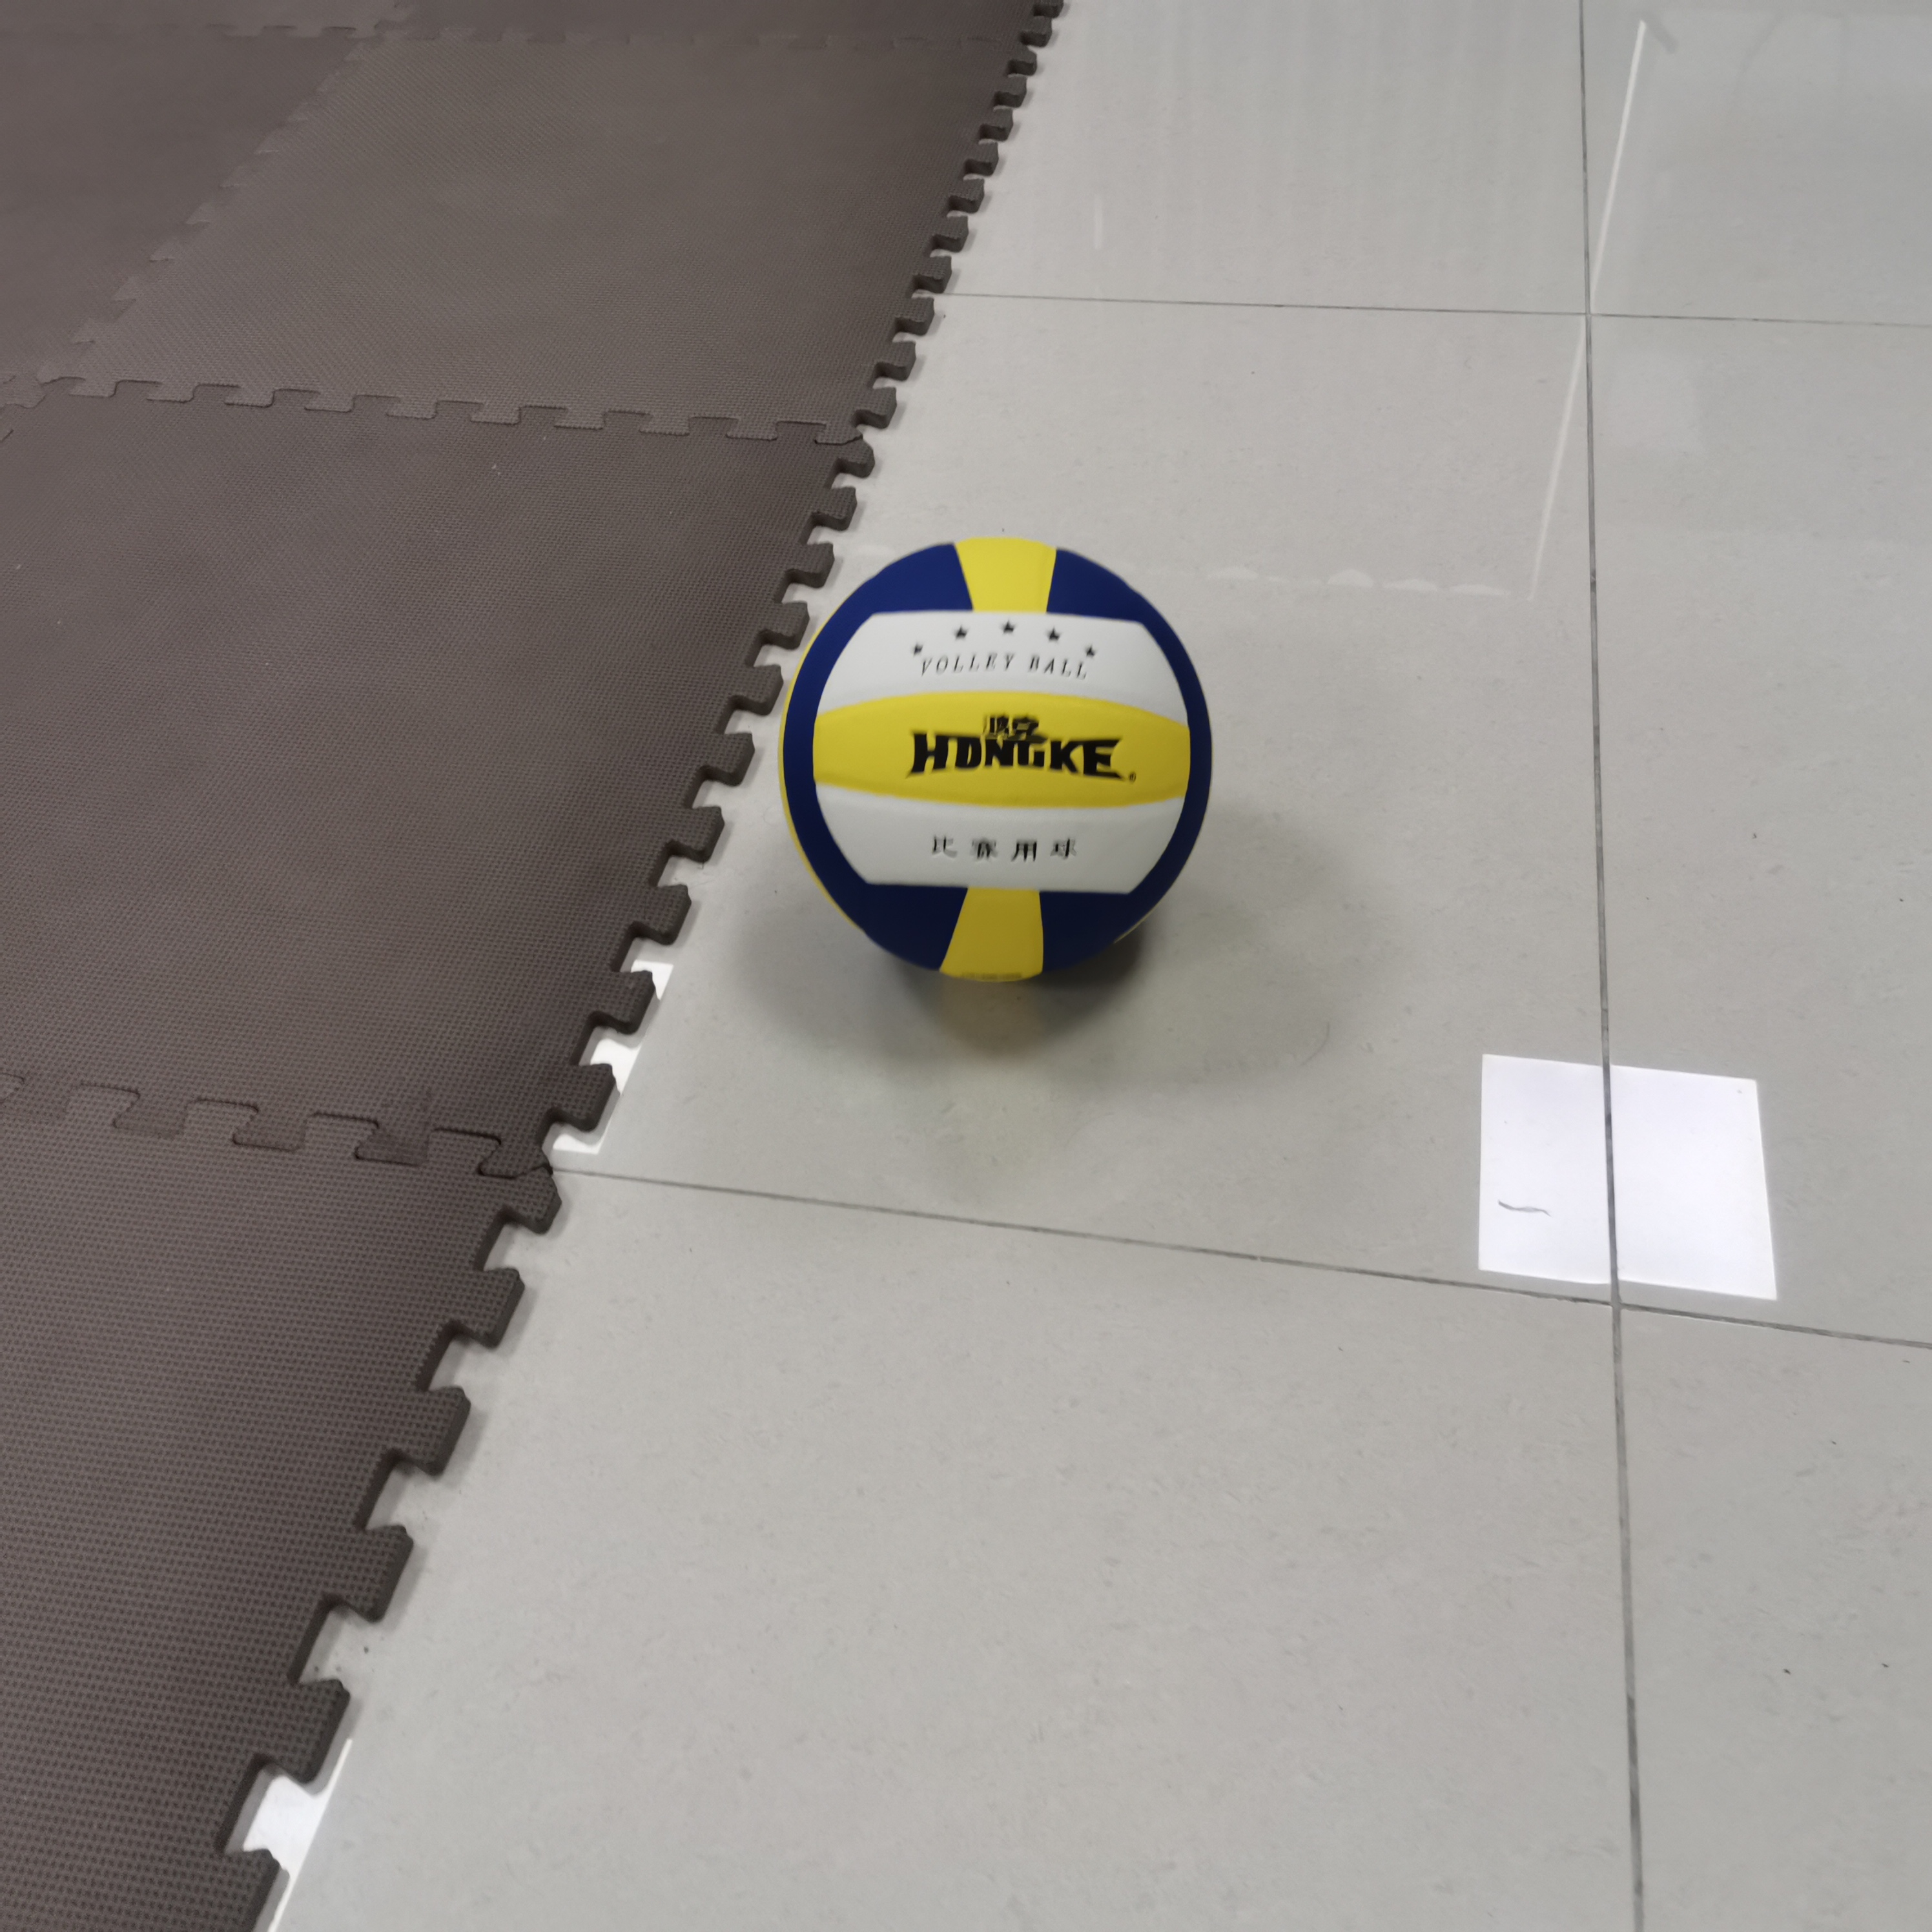volleyball: (784, 533, 1217, 993)
